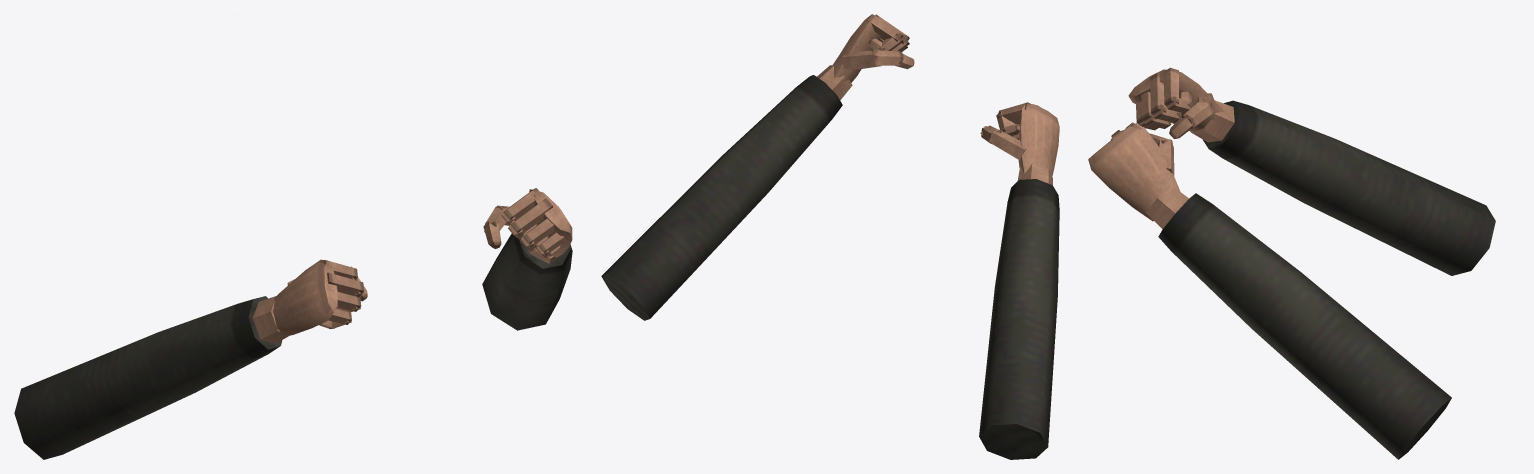
Rendered from fp_arms_free.obj.
3 views of the same model, side by side, from view 1: azimuth 30°, elevation 25°; view 2: azimuth 150°, elevation 25°; view 3: azimuth 270°, elevation 25° (orthographic). The views are drawn at different scales.
Visible parts, largest first — view 1: fp_arms_free_mesh; view 2: fp_arms_free_mesh; view 3: fp_arms_free_mesh.
Boxes of the visible parts, x1=… form: fp_arms_free_mesh: x1=14, y1=188, x2=572, y2=459; fp_arms_free_mesh: x1=601, y1=14, x2=1059, y2=459; fp_arms_free_mesh: x1=1088, y1=67, x2=1495, y2=459.
Bounding box in the file's own units: 0.6773 × 0.459 × 0.4937.
1 material, 1 textured.
